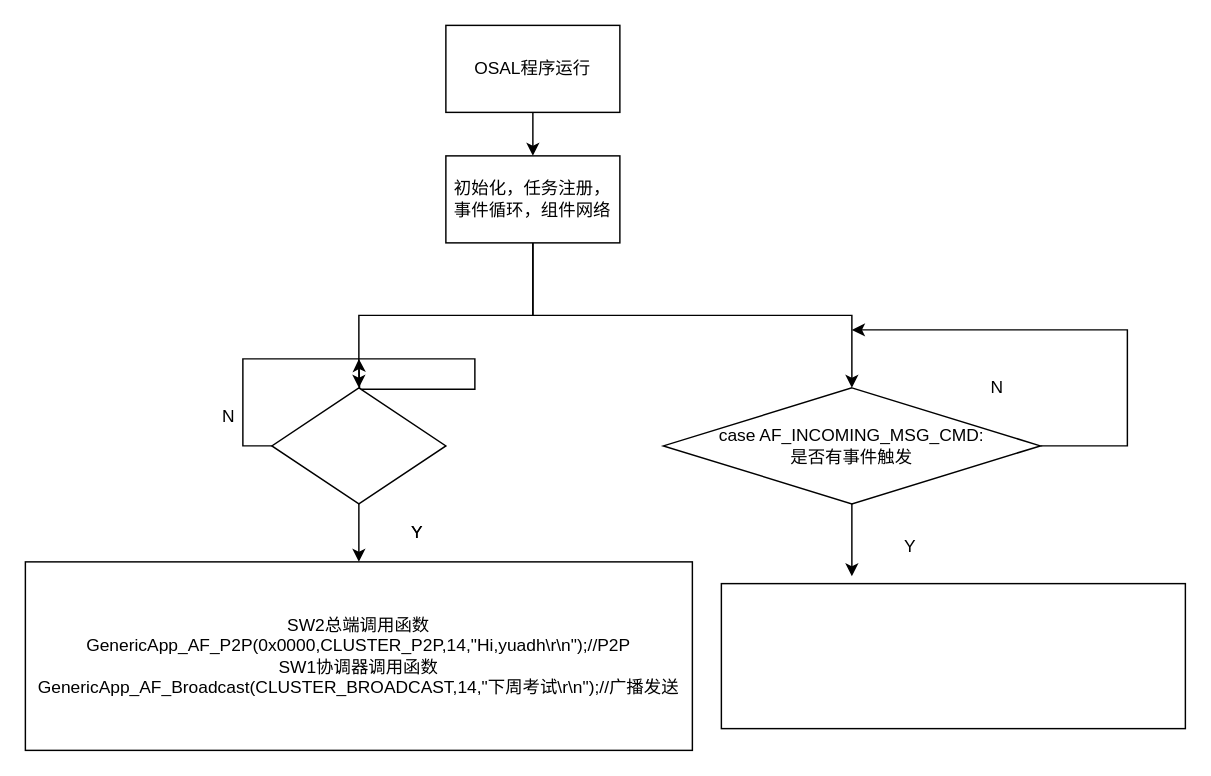
Some shapes in this 1211 by 776 pixel diagram are drawn without their labels. The shapes that lost their labels are listed below. From the top down, each one's centre as x and y in pixels, then its label:
the point at 358,445: 按键是否按下
the point at 952,655: GenericApp_MessageMSGCB((afIncomingMSGPacket_t *)MSGpkt); 根据通信方式选择不同串口打印
